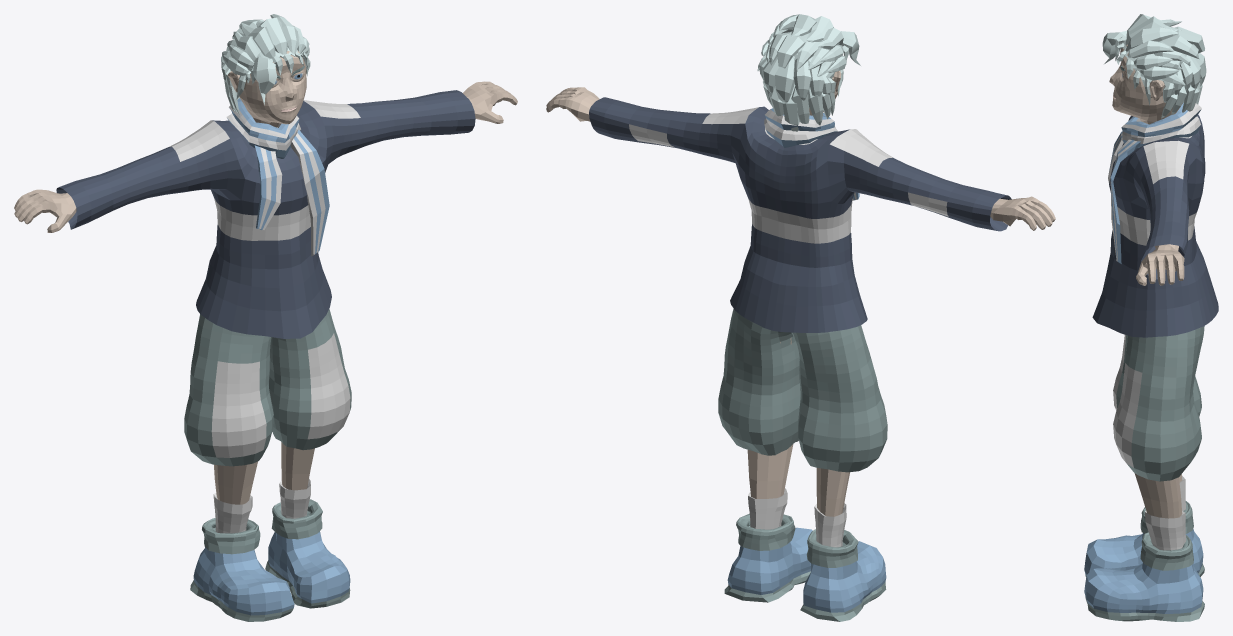
File: PLAYER_Shelly(1st).fbx
3 views of the same model, side by side, from view 1: azimuth 30°, elevation 25°; view 2: azimuth 150°, elevation 25°; view 3: azimuth 270°, elevation 25° (orthographic).
Visible parts, largest first — view 1: Shirt, Pants, Shoes, Body2, Muffler, side1, Socks; view 2: Shirt, Pants, Shoes, side1, Body2, Socks, Muffler; view 3: Shirt, Pants, Shoes, side1, Body2, Muffler, Socks.
Boxes of the visible parts, <box> form: Shirt: <box>56,90,475,338</box>; Pants: <box>184,309,351,466</box>; Shoes: <box>190,499,350,621</box>; Body2: <box>14,51,517,504</box>; Muffler: <box>226,98,329,256</box>; side1: <box>221,14,310,115</box>; Socks: <box>213,478,310,533</box>; Shirt: <box>589,97,1011,332</box>; Pants: <box>718,309,887,472</box>; Shoes: <box>724,513,886,621</box>; side1: <box>757,14,860,131</box>; Body2: <box>546,56,1055,516</box>; Socks: <box>748,488,846,547</box>; Muffler: <box>764,108,859,200</box>; Shirt: <box>1092,114,1218,337</box>; Pants: <box>1113,326,1204,481</box>; Shoes: <box>1084,501,1204,621</box>; side1: <box>1102,14,1206,118</box>; Body2: <box>1109,44,1184,518</box>; Muffler: <box>1108,103,1201,263</box>; Socks: <box>1145,475,1185,550</box>.
Bounding box in the file's own units: 169 × 187 × 39.48.
